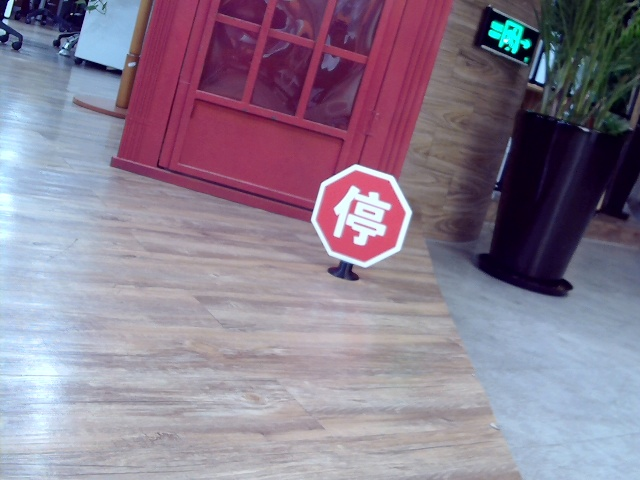stop: (332, 182, 391, 245)
